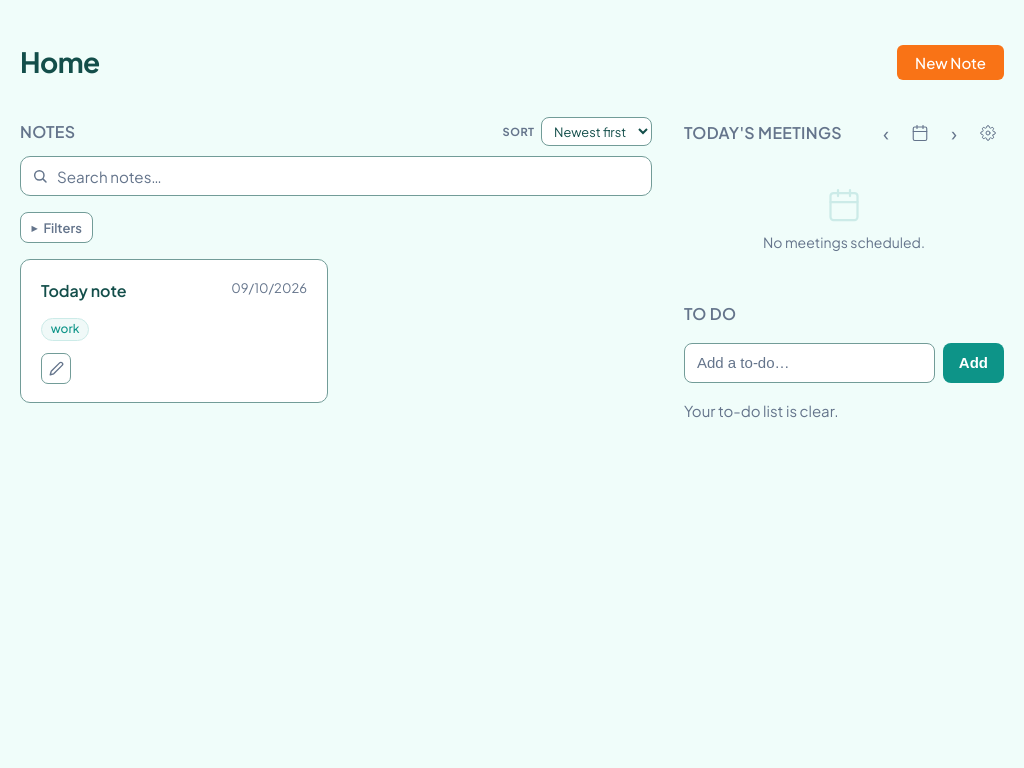
Test: CHANGE-6 — collapsible Filters on the home view › the toggle controls the panel via aria-controls / matching id
Click the button "▸ Filters": click(57, 228) [20,212,93,243]
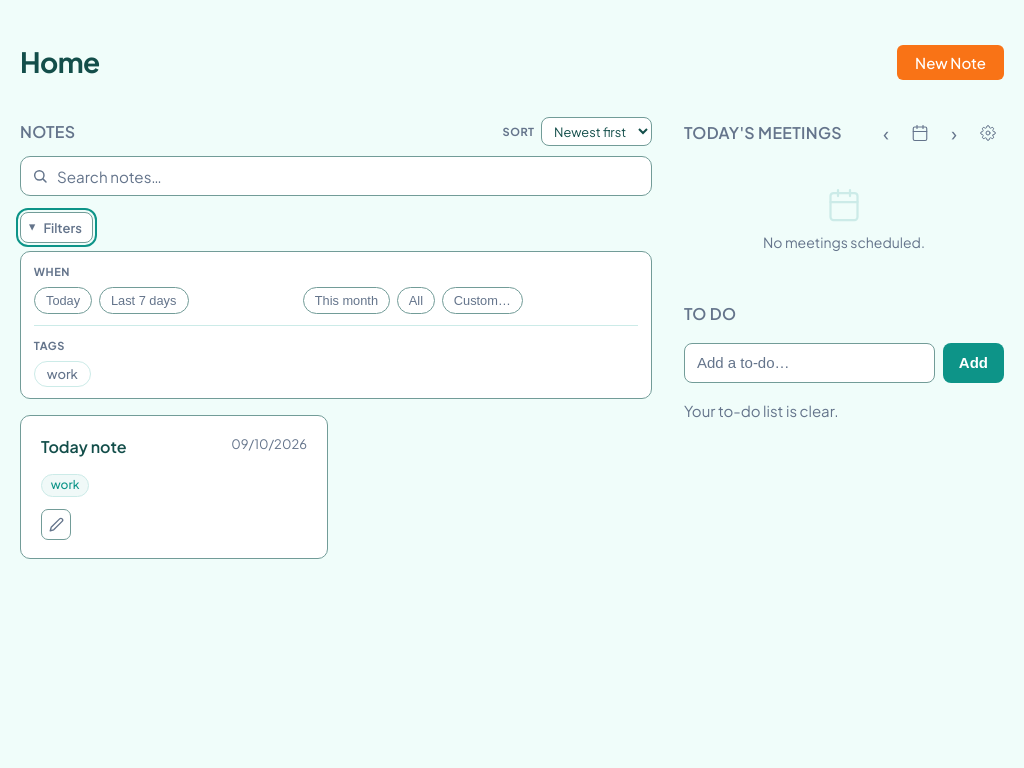
Check: the element with id "home-filters-panel" is shown, box [20,251,652,399]
